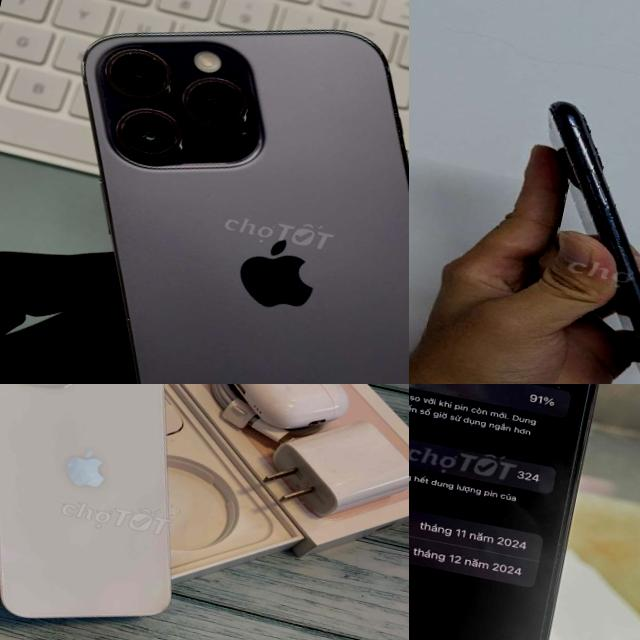gen_11: (549, 101, 640, 357)
gen_12_13: (0, 384, 228, 640)
gen_14: (0, 0, 409, 384)
gen_16: (409, 384, 640, 640)
scratch: (579, 204, 640, 283)
